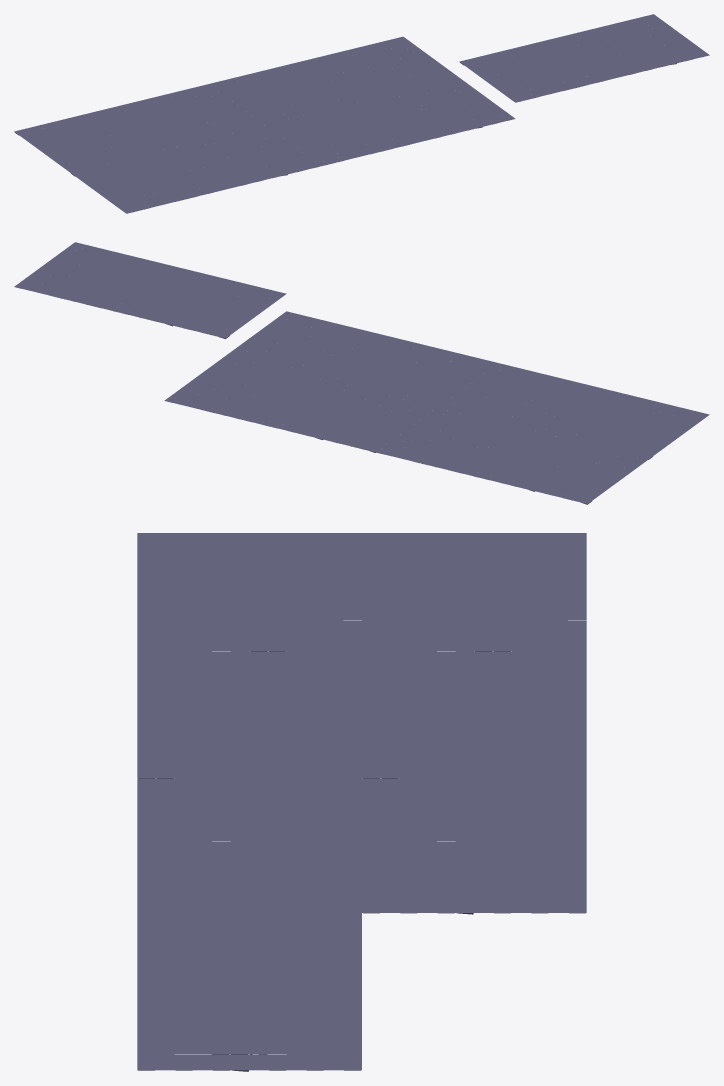
The model's file is atap dungeon.fbx.
3 renders of one model, top to bottom at view 1: azimuth 30°, elevation 25°; view 2: azimuth 150°, elevation 25°; view 3: azimuth 270°, elevation 25°, orthographic. The views are drawn at different scales.
Parts seen in each view (by area): view 1: atap.001; view 2: atap.001; view 3: atap.001.
Part boxes in pixels (x1,y1,x2,y2): atap.001: (14, 14, 709, 213); atap.001: (14, 242, 709, 504); atap.001: (137, 533, 586, 1071).
Bounding box in the file's own units: 7576 × 213 × 2527.
